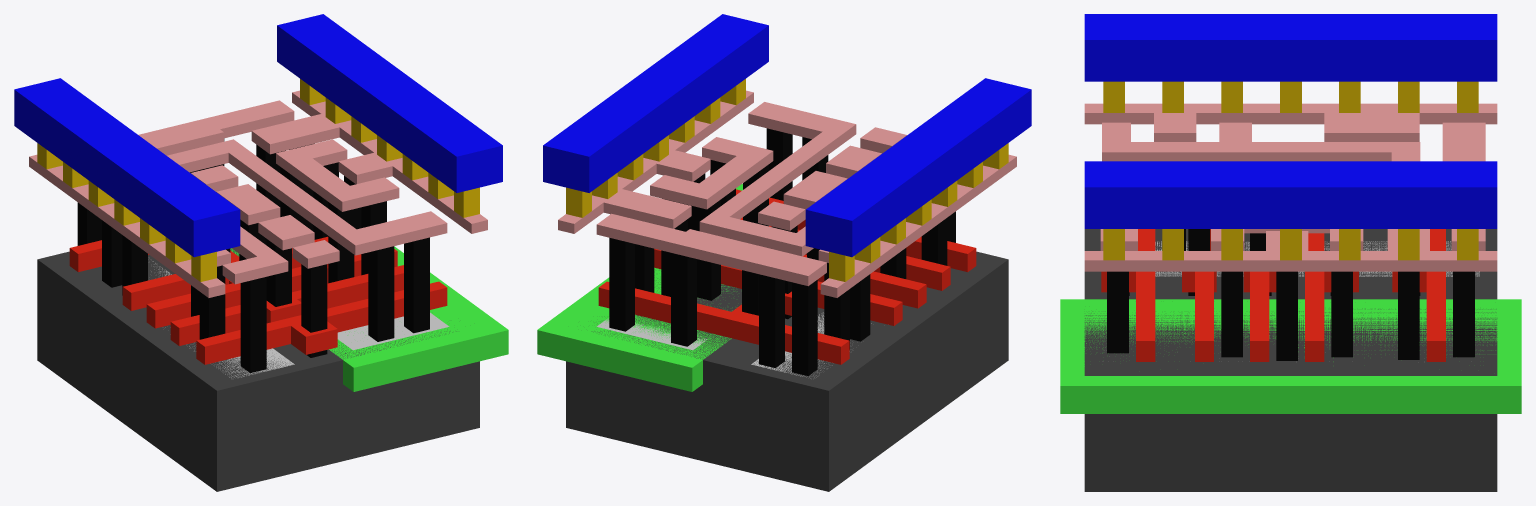
File: sky130_fd_sc_hd__a211o_1.obj
The picture shows the model from 3 angles, left to right: view 1: azimuth 30°, elevation 25°; view 2: azimuth 150°, elevation 25°; view 3: azimuth 270°, elevation 25°; orthographic projection. The views are drawn at different scales.
Parts seen in each view (by area): view 1: subs, metal1, li, licon, poly, nwell, mcon, tap, diff; view 2: subs, metal1, li, licon, poly, nwell, mcon, tap; view 3: metal1, subs, li, nwell, licon, poly, mcon, diff.
Part boxes in pixels (box(x1,y1,x2,y2)): subs: box(37, 248, 479, 491); metal1: box(14, 14, 502, 257); li: box(29, 90, 487, 297); licon: box(77, 138, 429, 372); poly: box(69, 236, 447, 364); nwell: box(230, 246, 508, 391); mcon: box(37, 79, 479, 281); tap: box(337, 312, 449, 350); diff: box(151, 261, 294, 378); subs: box(566, 251, 1008, 491); metal1: box(543, 14, 1031, 257); li: box(558, 90, 1016, 297); licon: box(609, 128, 955, 375); poly: box(598, 189, 976, 364); nwell: box(537, 184, 742, 391); mcon: box(566, 79, 1008, 281); tap: box(596, 318, 707, 350); metal1: box(1084, 14, 1497, 228); subs: box(1084, 229, 1497, 491); li: box(1084, 103, 1497, 271); nwell: box(1060, 299, 1521, 413); licon: box(1107, 229, 1474, 360); poly: box(1101, 229, 1445, 361); mcon: box(1103, 81, 1478, 260); diff: box(1155, 241, 1479, 276).
Bounding box in the file's own units: 3.2 × 2.74 × 3.6.
